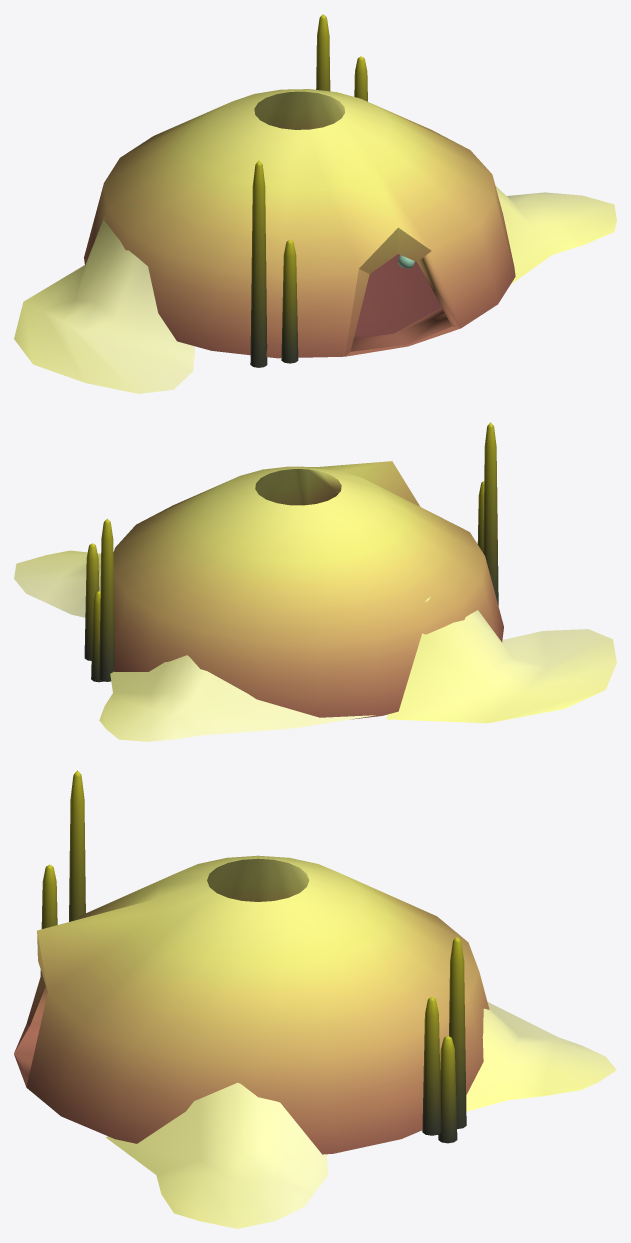
The model's file is Mujili_House_Sand.fbx.
The picture shows the model from 3 angles, top to bottom: view 1: azimuth 30°, elevation 25°; view 2: azimuth 150°, elevation 25°; view 3: azimuth 270°, elevation 25°; orthographic projection. The views are drawn at different scales.
Visible parts, largest first — view 1: House, Sand1, Plants_exterior; view 2: House, Sand1, Plants_exterior; view 3: House, Sand1, Plants_exterior.
Boxes of the visible parts, left/top/right/bottom form: House: left=84, top=89, right=515, bottom=358; Sand1: left=14, top=185, right=616, bottom=393; Plants_exterior: left=250, top=14, right=367, bottom=367; House: left=113, top=461, right=503, bottom=719; Sand1: left=14, top=550, right=616, bottom=741; Plants_exterior: left=84, top=422, right=498, bottom=682; House: left=14, top=855, right=489, bottom=1154; Sand1: left=106, top=1002, right=616, bottom=1228; Plants_exterior: left=40, top=770, right=466, bottom=1143.
Bounding box in the file's own units: 31.32 × 10.43 × 24.28.
26 materials, 26 textured.
